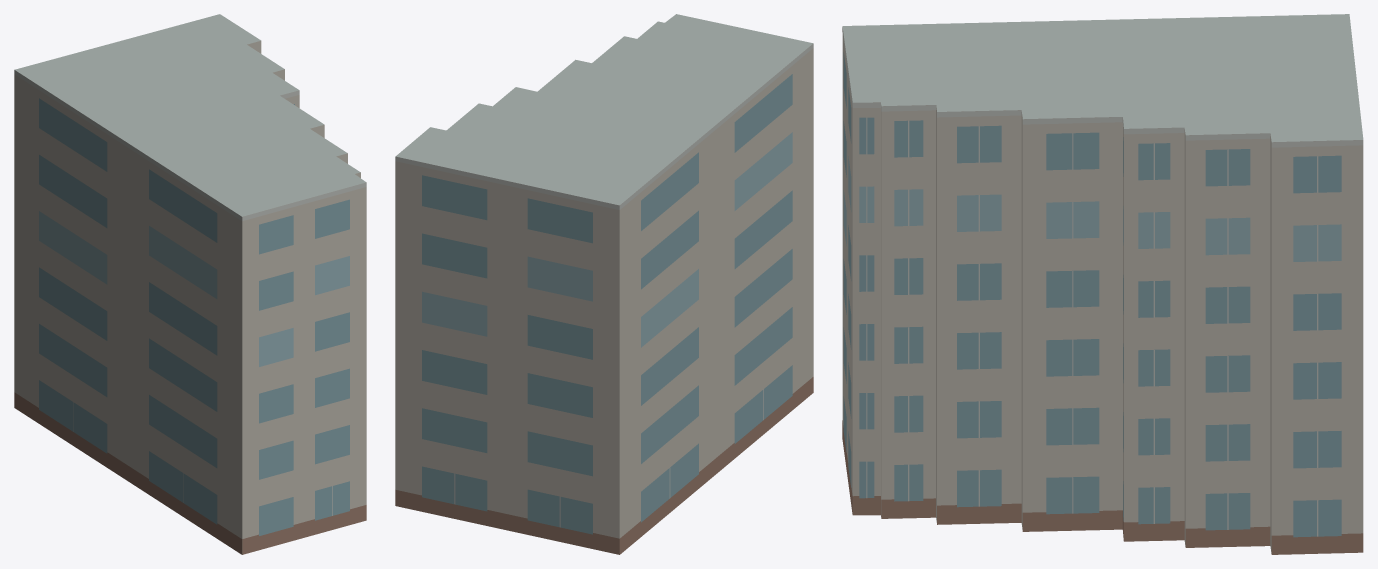
Rendered from survey-upis-32742554.glb.
3 views of the same model, side by side, from view 1: azimuth 30°, elevation 25°; view 2: azimuth 150°, elevation 25°; view 3: azimuth 270°, elevation 25° (orthographic). The views are drawn at different scales.
Parts seen in each view (by area): view 1: survey-upis-32742554.tmp; view 2: survey-upis-32742554.tmp; view 3: survey-upis-32742554.tmp.
Part boxes in pixels (<box>): survey-upis-32742554.tmp: <box>14,14,366,554</box>; survey-upis-32742554.tmp: <box>395,14,813,554</box>; survey-upis-32742554.tmp: <box>842,14,1363,554</box>.
Size of the model in its own units: 12.2 by 18.3 by 20.94.
